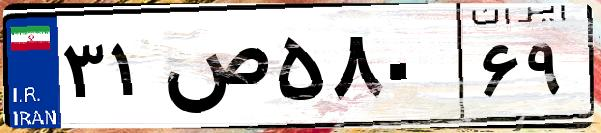0: (385, 28, 445, 110)
1: (110, 28, 158, 98)
3: (57, 26, 110, 100)
5: (270, 28, 330, 110)
6: (475, 38, 525, 113)
8: (330, 28, 385, 110)
9: (525, 38, 570, 115)
ص: (158, 20, 270, 120)
